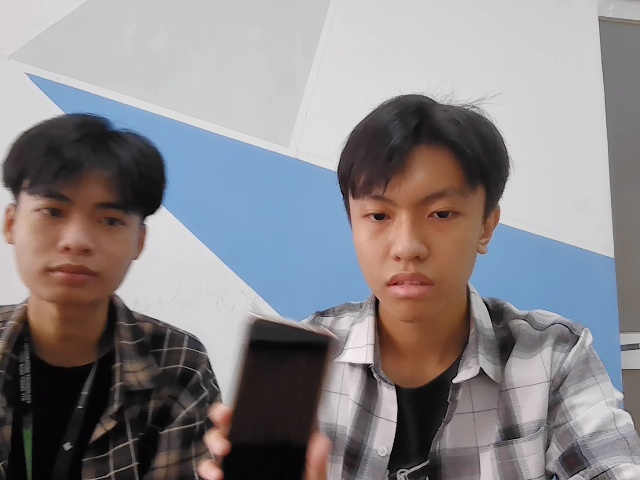human: (334, 94, 515, 320), (3, 108, 174, 306)
phone: (216, 301, 340, 478)
